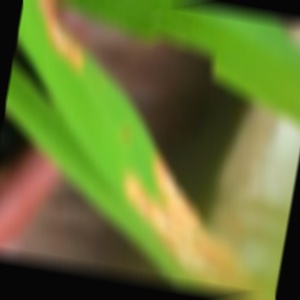Brown_Spot: (110, 134, 239, 271), (34, 1, 107, 74)
